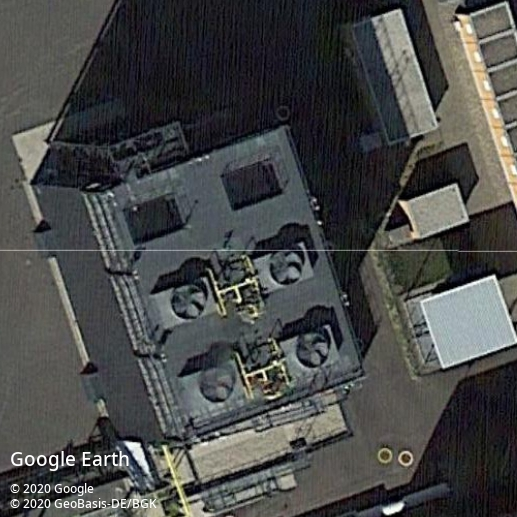Vent: (294, 332, 331, 370), (267, 250, 304, 287), (170, 284, 207, 321), (198, 367, 234, 404)
